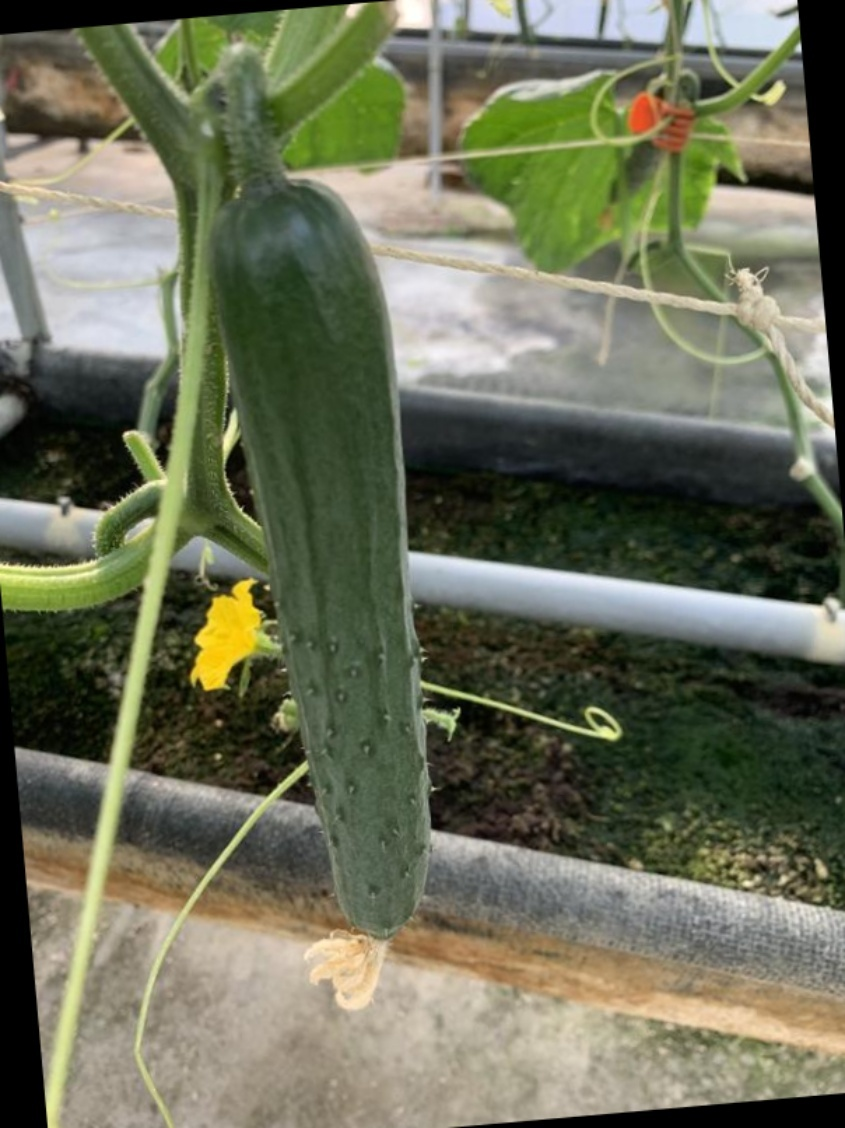mature: (202, 181, 445, 937)
